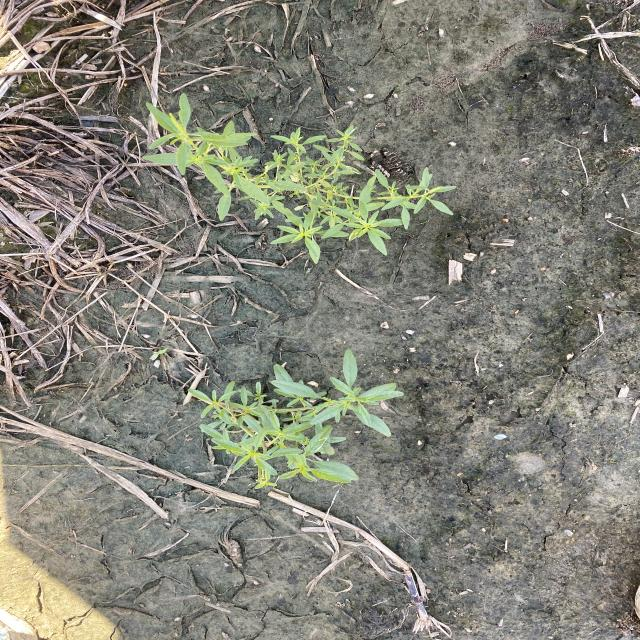Waterhemp: (138, 91, 459, 266), (186, 348, 406, 491)
